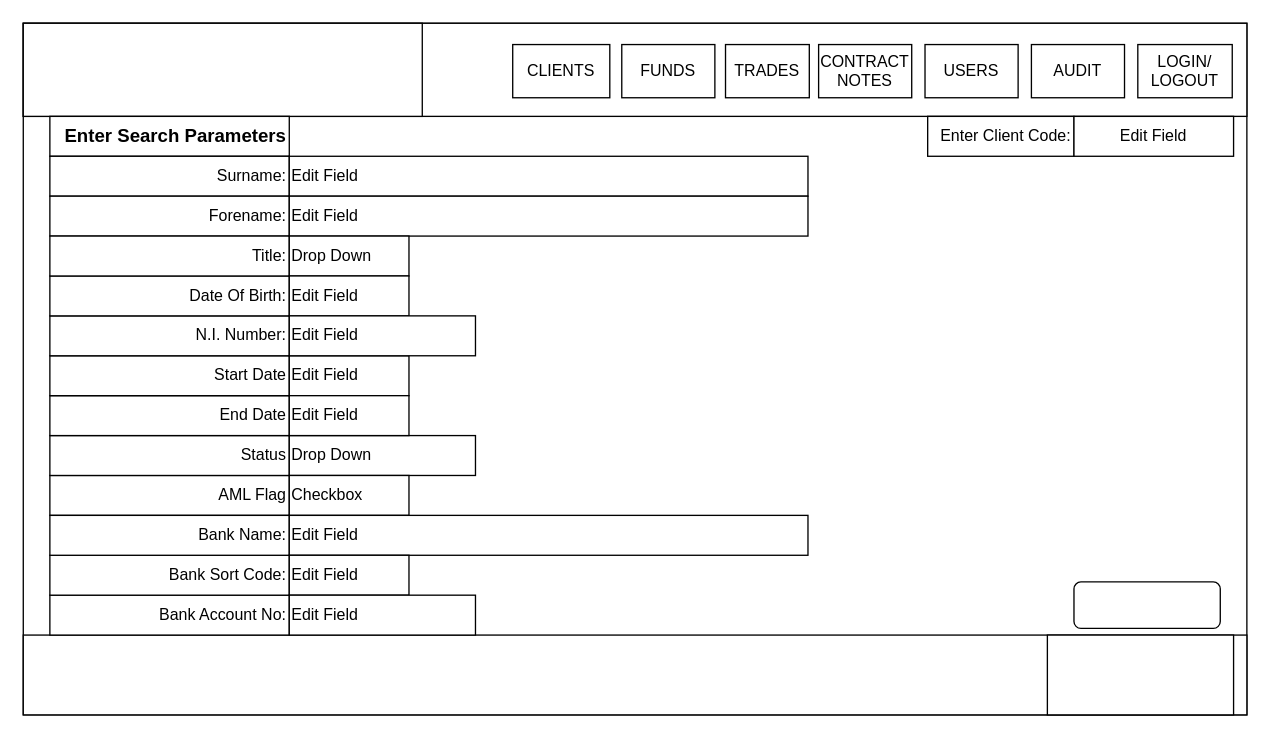
Some shapes in this 1270 by 738 pixel diagram are drawn without their labels. Each missing label, with the centre of its shape:
"Copywright 2024 Richard Maida Jimenez" goes at point (1140, 674).
"FUND BROKER: CLIENT SEARCH" goes at point (222, 69).
"Search" goes at point (1146, 604).
